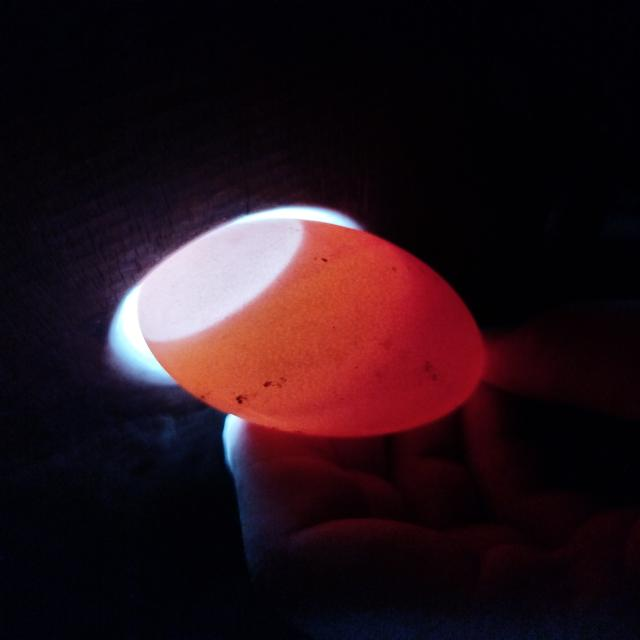Camara de Ar: (137, 218, 304, 342)
